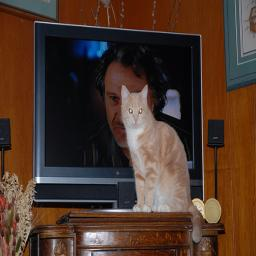catnose: (134, 116, 138, 124)
